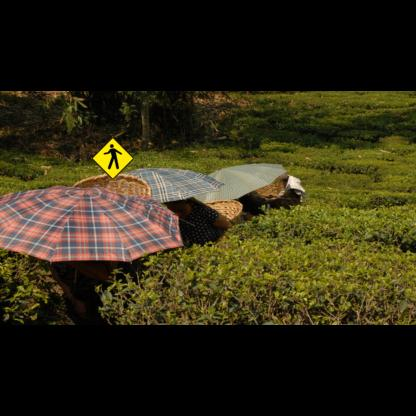A-32a: (91, 137, 134, 180)
